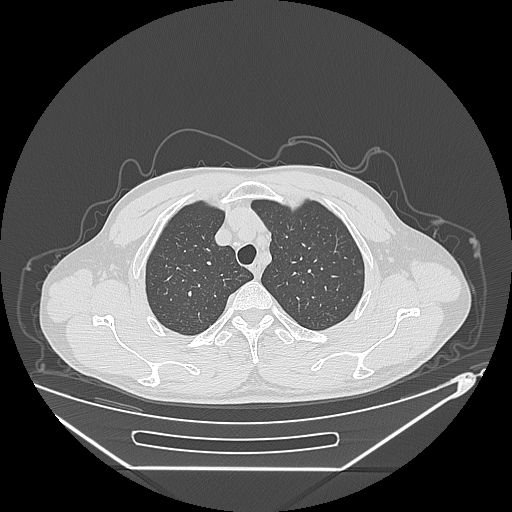nodule: (354, 268, 363, 276)
